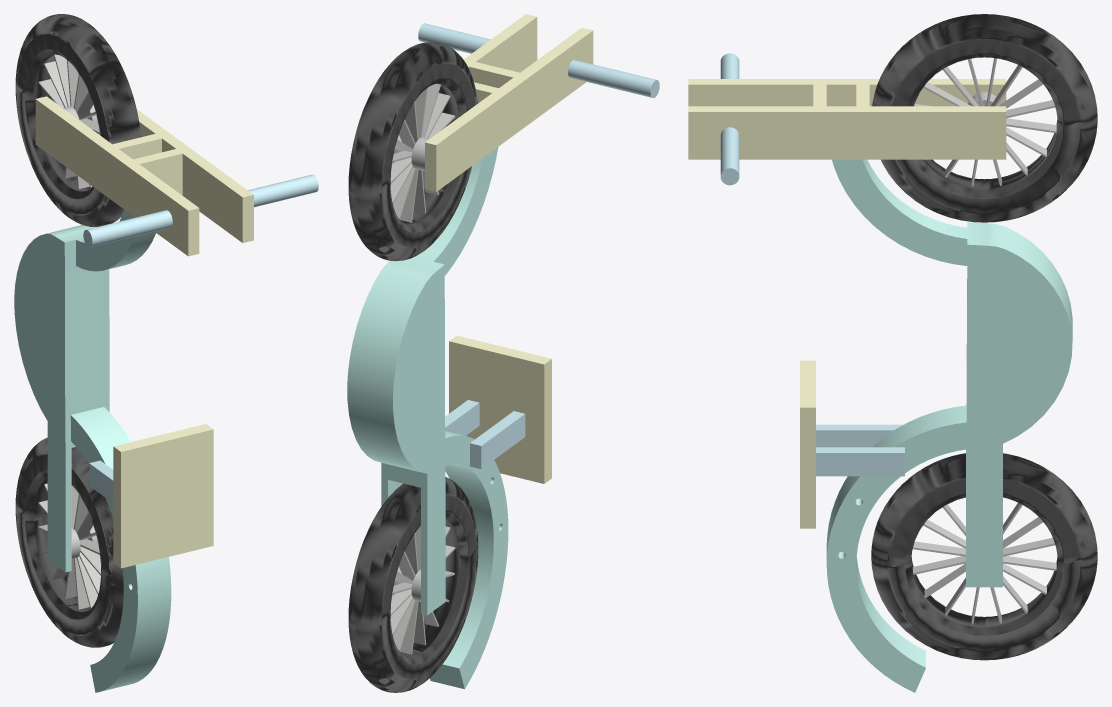
3 views of the same model, side by side, from view 1: azimuth 30°, elevation 25°; view 2: azimuth 150°, elevation 25°; view 3: azimuth 270°, elevation 25° (orthographic). The views are drawn at different scales.
Visible parts, largest first — view 1: Body23, Body35, Body13, Body14, Body36, Body16, Body17, Body41, Body26, Body21, Body39, Body40 (+3 smaller); view 2: Body23, Body14, Body13, Body35, Body16, Body36, Body26, Body41, Body21, Body17, Body31, Body39 (+3 smaller); view 3: Body23, Body14, Body13, Body17, Body36, Body16, Body21, Body41, Body26, Body35, Body32, Body31 (+1 smaller).
Boxes of the visible parts, x1,y1,x2,y2 form: Body23: (14,225,109,572); Body35: (113,424,213,568); Body13: (15,14,141,226); Body14: (15,437,123,647); Body36: (70,407,171,692); Body16: (35,96,199,256); Body17: (136,109,253,242); Body41: (38,483,100,609); Body26: (38,54,99,188); Body21: (76,209,155,271); Body39: (83,210,172,247); Body40: (248,174,318,207); Body23: (347,257,445,615); Body14: (348,477,478,692); Body13: (348,42,477,261); Body35: (449,335,551,483); Body16: (425,27,593,191); Body36: (430,431,508,689); Body26: (390,83,455,222); Body41: (390,526,455,654); Body21: (414,147,498,275); Body17: (392,14,537,164); Body31: (470,411,525,468); Body39: (568,60,659,97); Body23: (966,222,1072,587); Body14: (871,453,1097,660); Body13: (872,14,1097,222); Body17: (688,106,1006,159); Body36: (826,405,966,692); Body16: (688,79,1006,106); Body21: (832,159,967,265); Body41: (912,503,1056,624); Body26: (914,58,1056,186); Body35: (800,360,815,528); Body32: (816,447,904,476); Body31: (816,424,903,447).
Bounding box in the file's own units: 0.366 × 0.9932 × 0.551.
